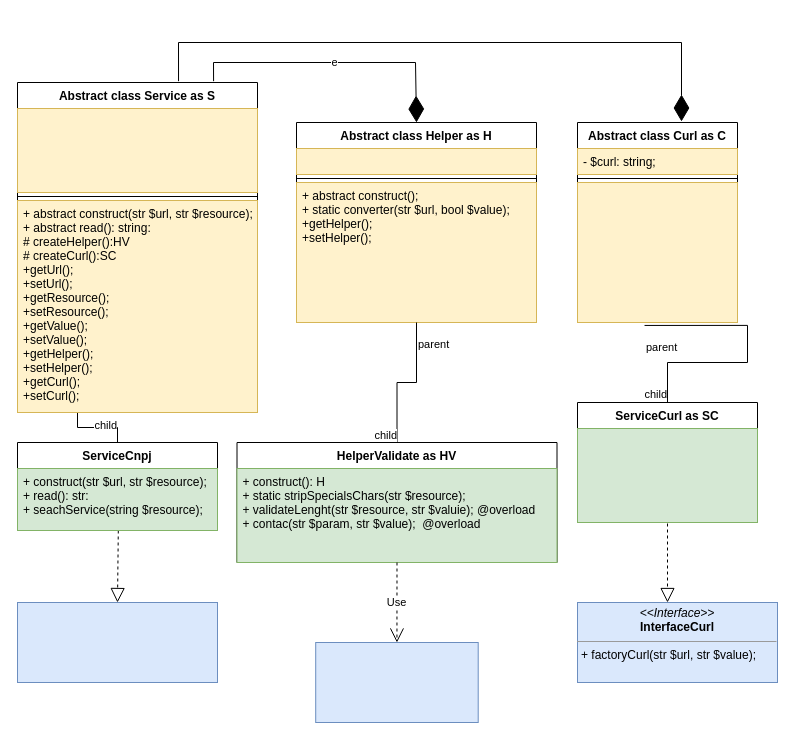
The diagram is 795 pixels wide and 740 high, and some of its shapes have lost their labels. The centre of each missing label's shape, as x and y in pixels:
"+ abstract construct(); +getCurl(); +setCurl();" belongs at point 657,252.
"+ construct():C + factoryCurl(str $url, str $value);" belongs at point 667,475.
"- $helper: string;" belongs at point 416,161.
"- $url: str; - $resource: str; - $value: str; - $helper:SV; - $curl:SC;" belongs at point 137,150.
"<<Interface>> InterfaceService as IS + seachService(string $resource);" belongs at point 117,642.
"<<Trait>> TraitHelper as TH + abstract validateLenght(); + abstract contac();" belongs at point 396,682.
